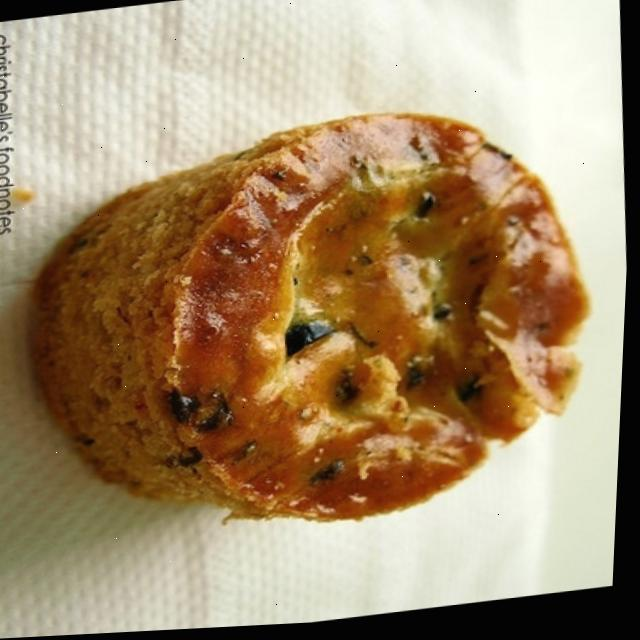蛋糕甜品: (6, 52, 637, 592)
